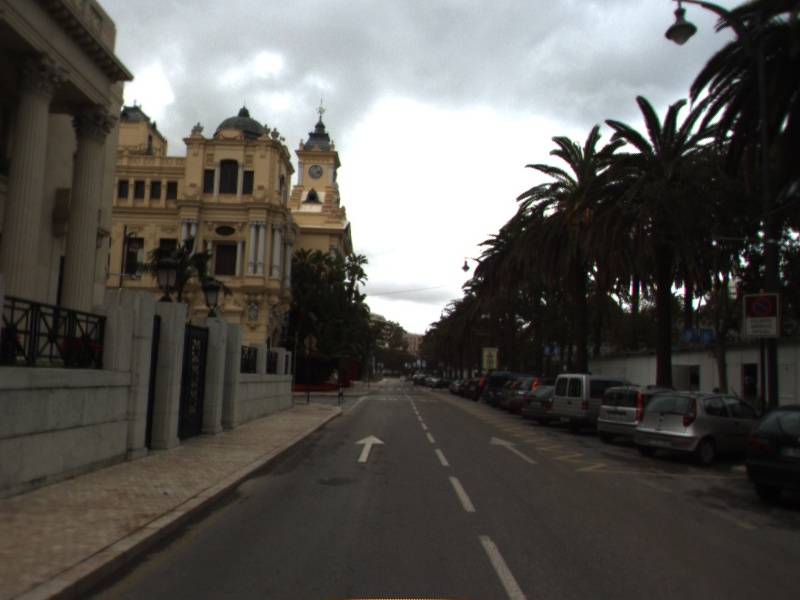STRAIGHT: (488, 434, 539, 466), (351, 433, 387, 464)
